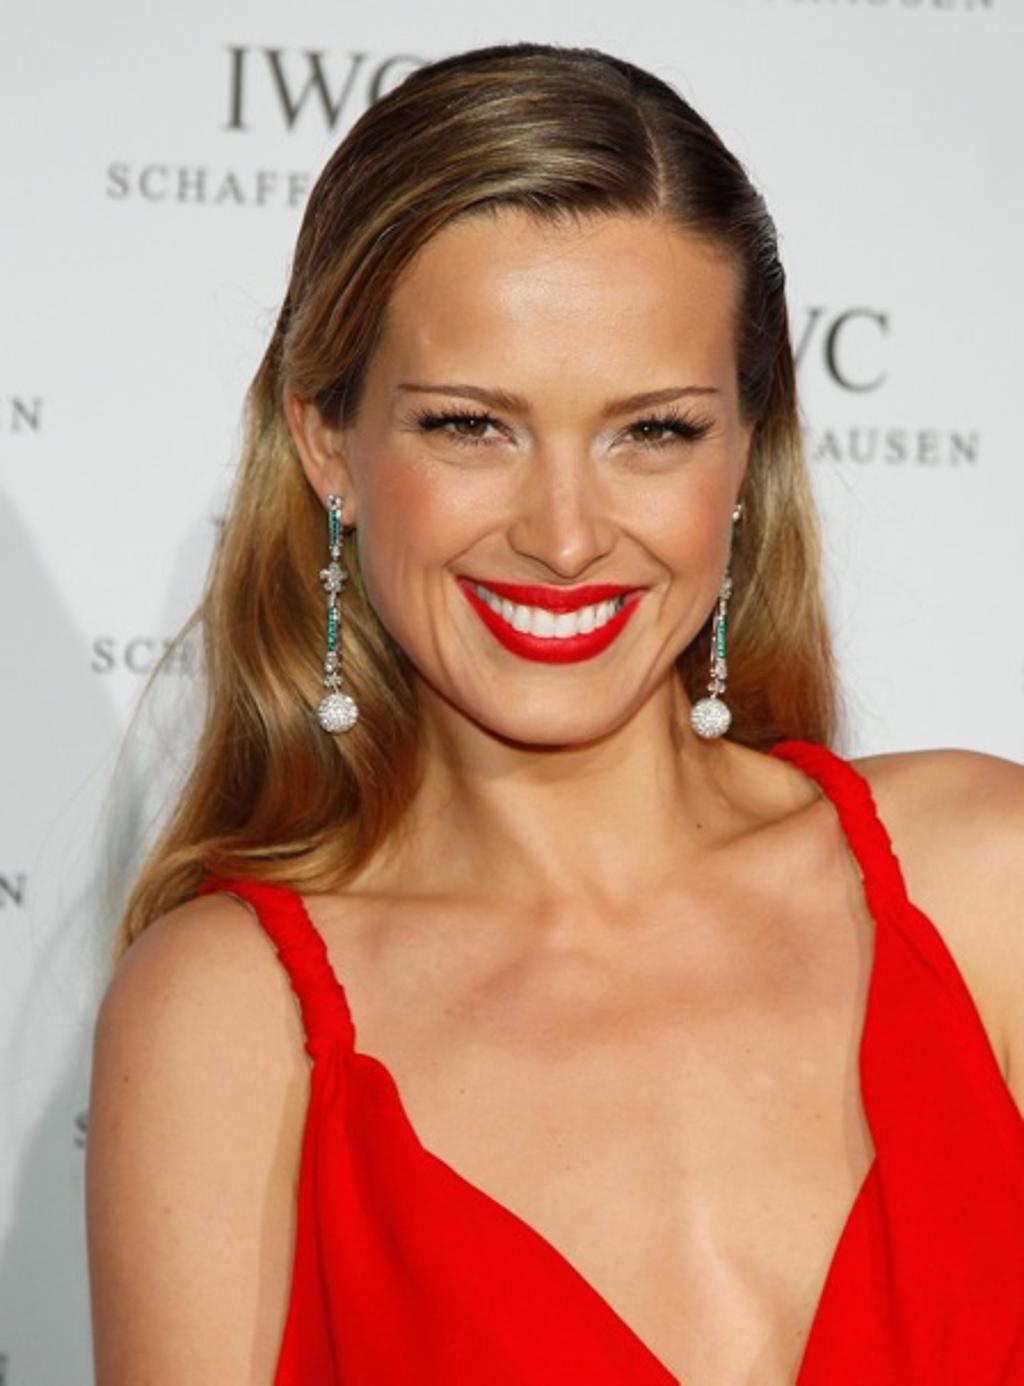face: (358, 204, 742, 744)
